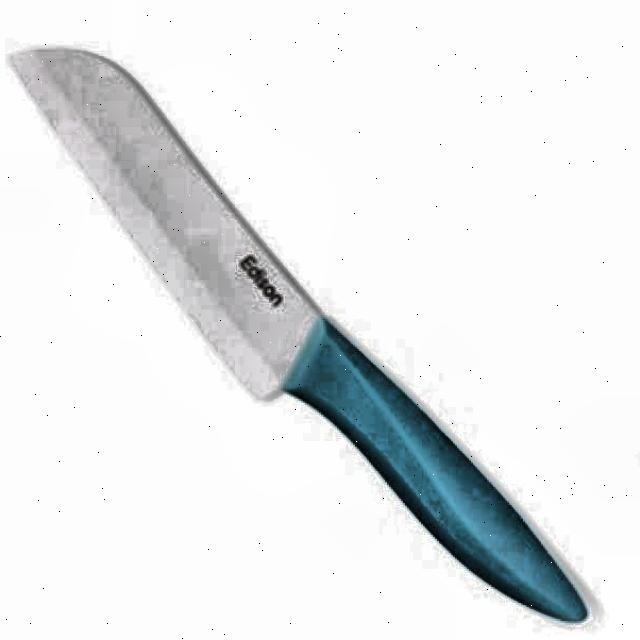knife: (4, 43, 592, 631)
